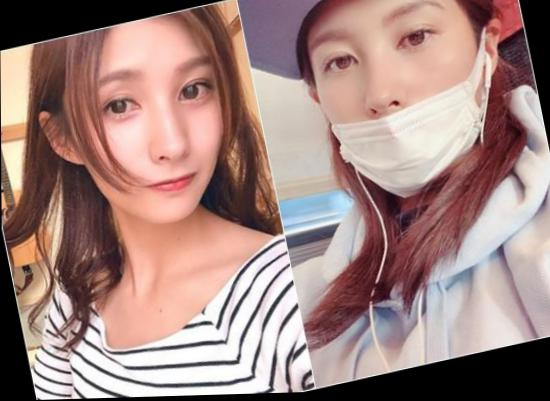NONE: (65, 30, 244, 245)
WRONG: (298, 1, 509, 221)
